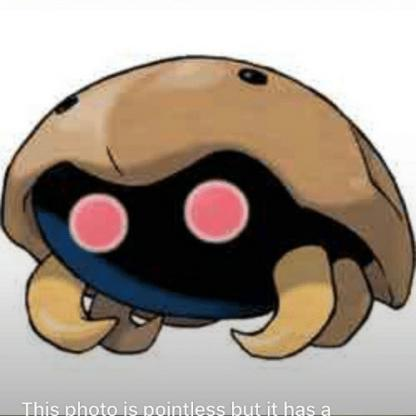Kabuto: (1, 53, 416, 369)
